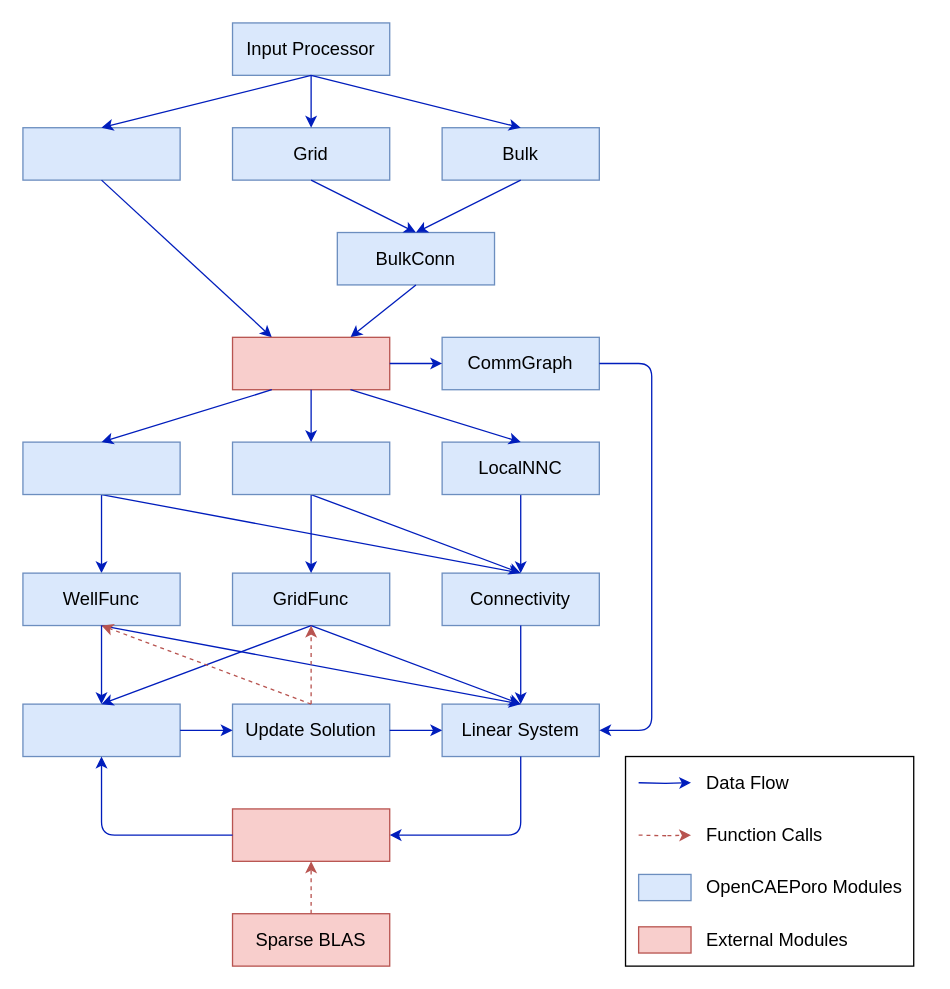
The diagram is 950 pixels wide and 989 high, and some of its shapes have lost their labels. The box of each missing label's shape, as (x1, y1, x2, y2) in pixels:
Flash Calculation: (22, 703, 180, 757)
Grid Partitioner: (231, 336, 390, 390)
Linear Solver: (231, 808, 390, 861)
LocalGrid: (231, 441, 390, 495)
LocalWell: (22, 441, 180, 495)
WellGroup: (22, 126, 180, 180)
